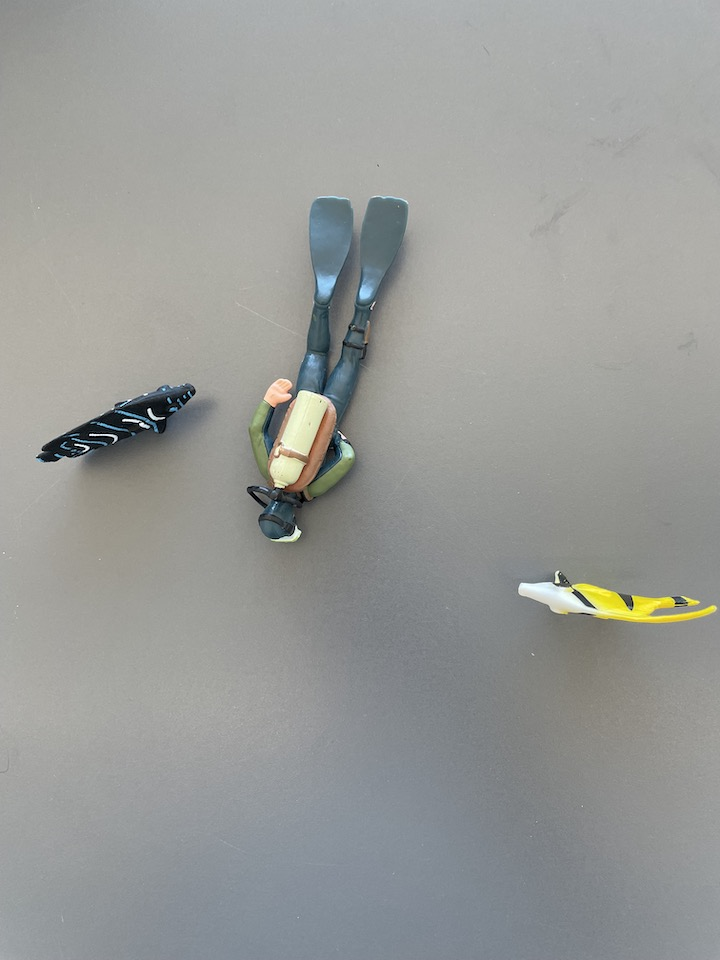danger: (515, 569, 720, 627)
diver: (248, 195, 410, 549)
fish: (37, 381, 198, 467)
